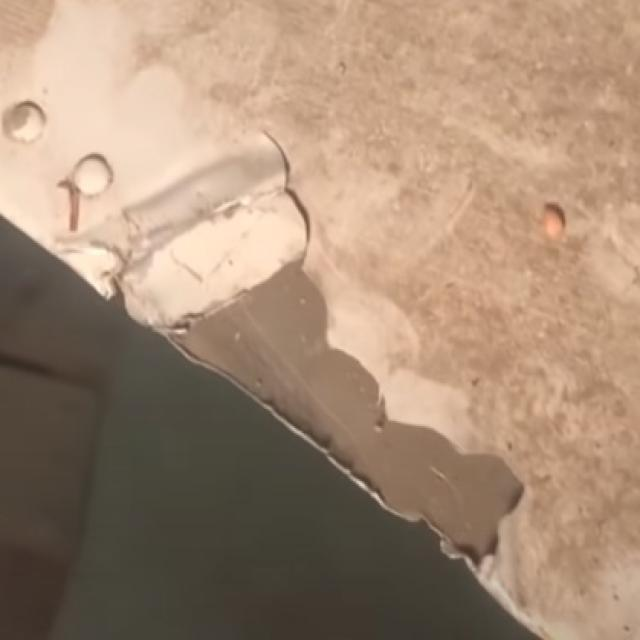crack: (252, 114, 317, 253)
